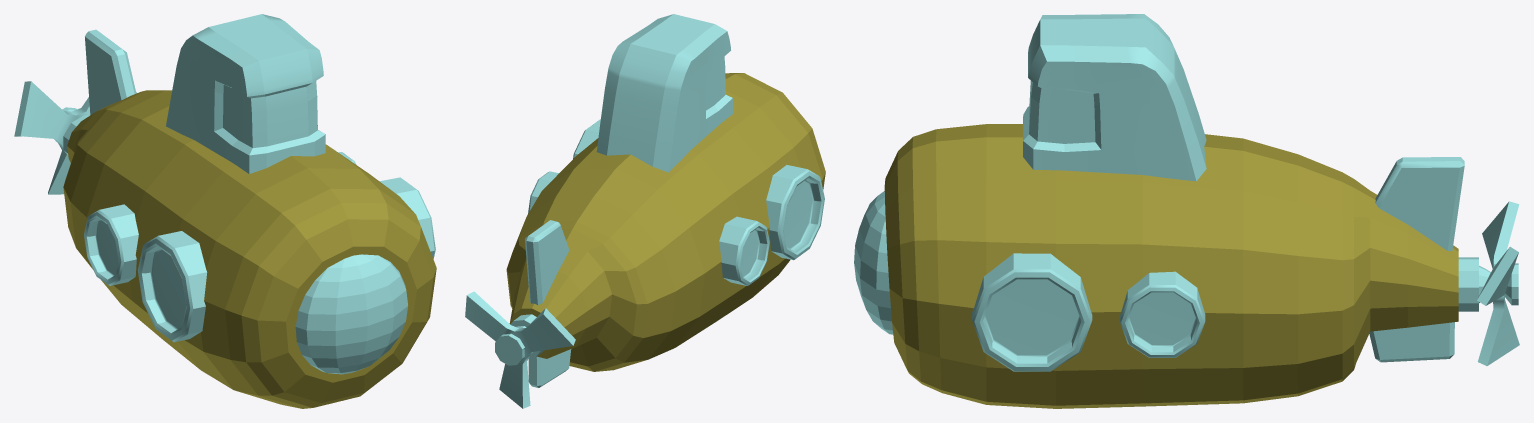
File: hull upgrade 4.fbx
3 views of the same model, side by side, from view 1: azimuth 30°, elevation 25°; view 2: azimuth 150°, elevation 25°; view 3: azimuth 270°, elevation 25° (orthographic). The views are drawn at different scales.
Parts seen in each view (by area): view 1: polySurface89; view 2: polySurface89; view 3: polySurface89.
Part boxes in pixels (x1,y1,x2,y2): polySurface89: [14, 14, 436, 408]; polySurface89: [465, 14, 825, 408]; polySurface89: [854, 14, 1519, 408].
Bounding box in the file's own units: 1.3 × 1.63 × 2.71.
